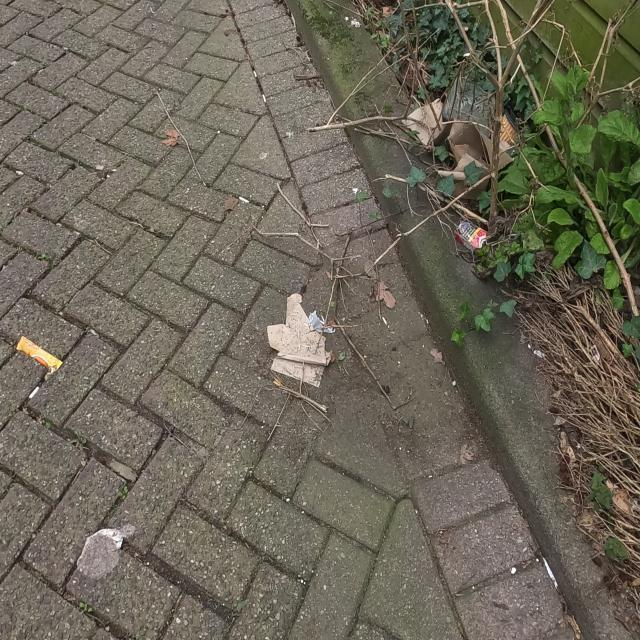Paper: (266, 291, 333, 389), (76, 524, 136, 580), (454, 219, 487, 253)
Plastic: (15, 334, 64, 374)
